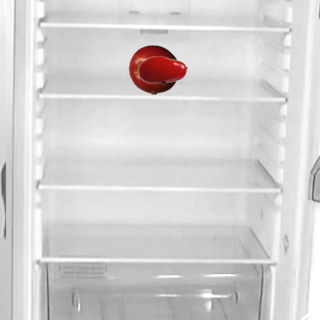Apple Braeburn: (128, 44, 178, 94)
Tomato 2: (137, 44, 187, 94)
